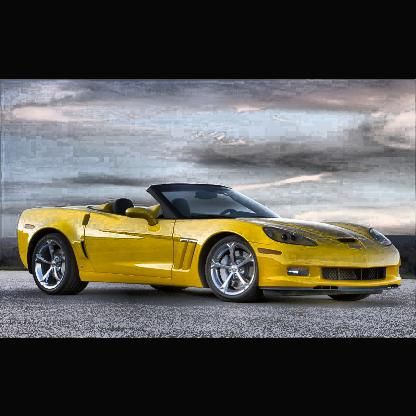Chevrolet Corvette Convertible 2012: (20, 185, 402, 302)
